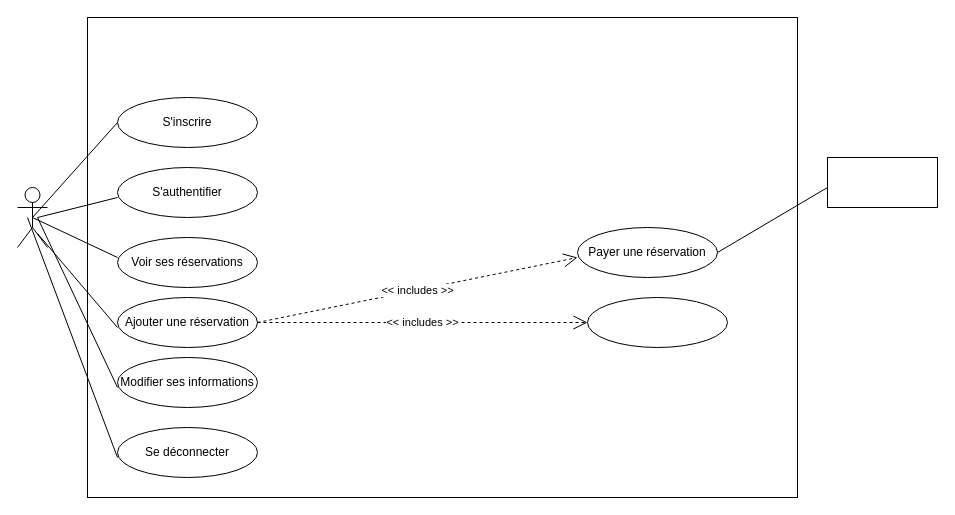
The diagram is 955 pixels wide and 515 high, and some of its shapes have lost their labels. The box of each missing label's shape, as (x1, y1, x2, y2) in pixels:
Client: (16, 186, 48, 248)
Paypal: (826, 156, 938, 208)
Préciser les accessoires sous le parasol (fauteils, lits): (586, 296, 728, 348)
